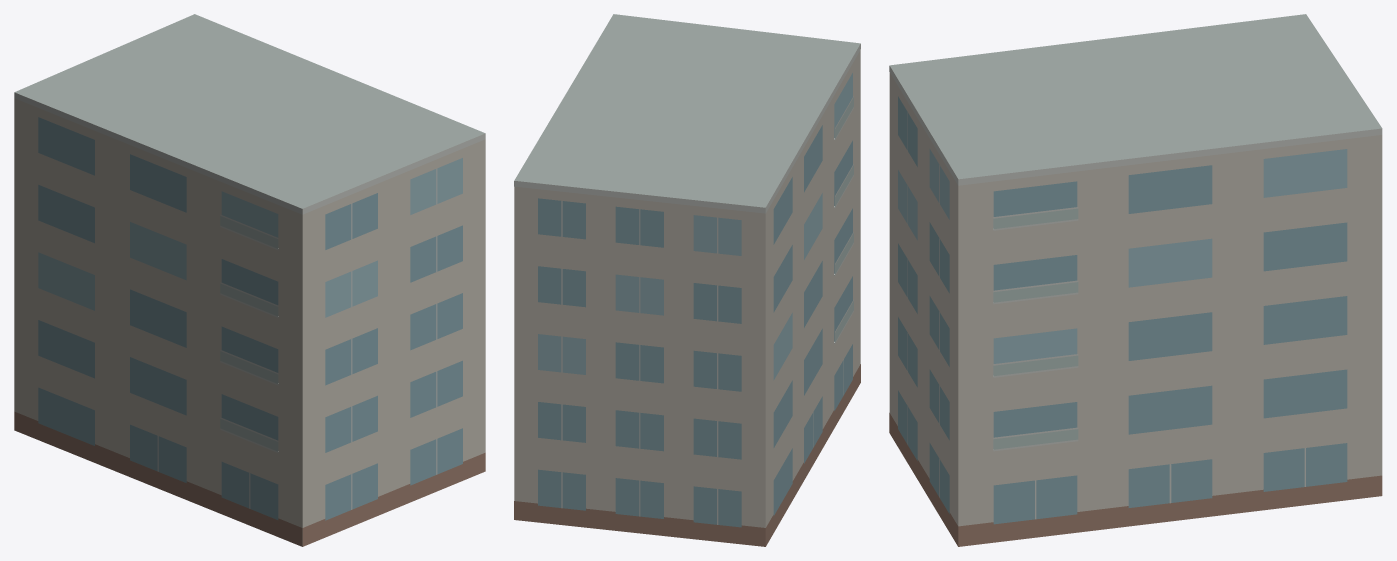
File: survey-upis-32562176.glb
3 views of the same model, side by side, from view 1: azimuth 30°, elevation 25°; view 2: azimuth 150°, elevation 25°; view 3: azimuth 270°, elevation 25° (orthographic). The views are drawn at different scales.
Visible parts, largest first — view 1: survey-upis-32562176.tmp; view 2: survey-upis-32562176.tmp; view 3: survey-upis-32562176.tmp.
Boxes of the visible parts, x1=… form: survey-upis-32562176.tmp: x1=14, y1=14, x2=485, y2=546; survey-upis-32562176.tmp: x1=514, y1=14, x2=860, y2=546; survey-upis-32562176.tmp: x1=889, y1=14, x2=1382, y2=546.
Bounding box in the file's own units: 13.61 × 14.1 × 17.15.
